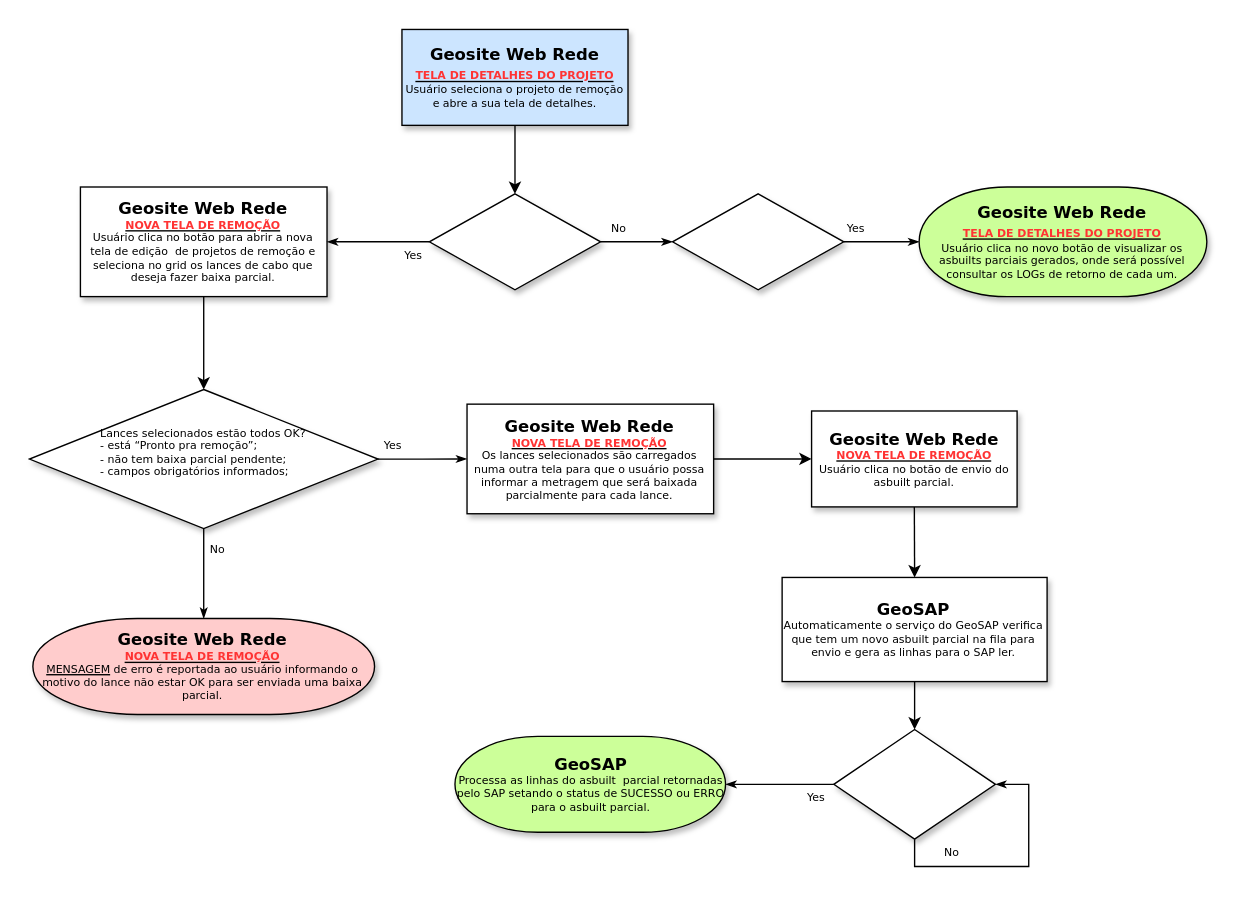
Some shapes in this 1240 by 900 pixel diagram are drawn without their labels. Here are the shapes that lost their labels. From the top down, the centre of each, then its label:
At [516,243]: "Usuário deseja fazer baixas parciais?".
At [759,243]: "Usuário deseja consultar baixas parciais?".
At [915,786]: "SAP retornou o LOG do asbuilt parcial?".
